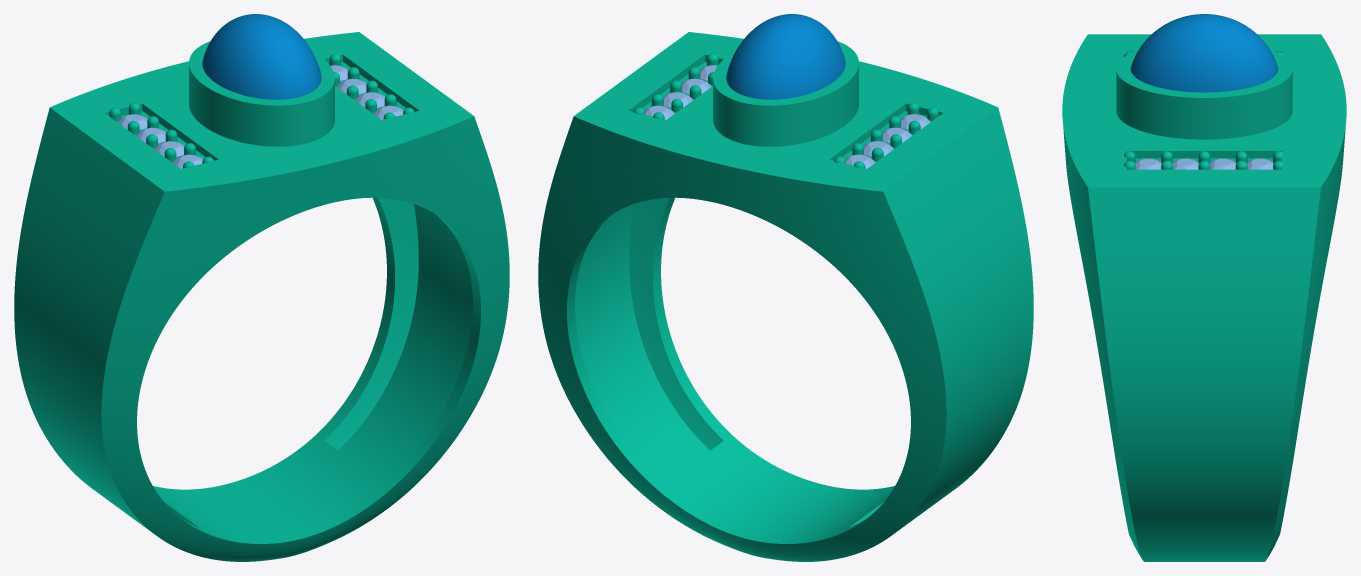
3 views of the same model, side by side, from view 1: azimuth 30°, elevation 25°; view 2: azimuth 150°, elevation 25°; view 3: azimuth 270°, elevation 25° (orthographic).
Visible parts, largest first — view 1: E 40.3dm; view 2: E 40.3dm; view 3: E 40.3dm.
Part boxes in pixels (left/top/right/bottom): E 40.3dm: left=14, top=14, right=509, bottom=561; E 40.3dm: left=538, top=14, right=1033, bottom=561; E 40.3dm: left=1062, top=14, right=1346, bottom=561.
Bounding box in the file's own units: 2.38 × 2.88 × 1.42.
